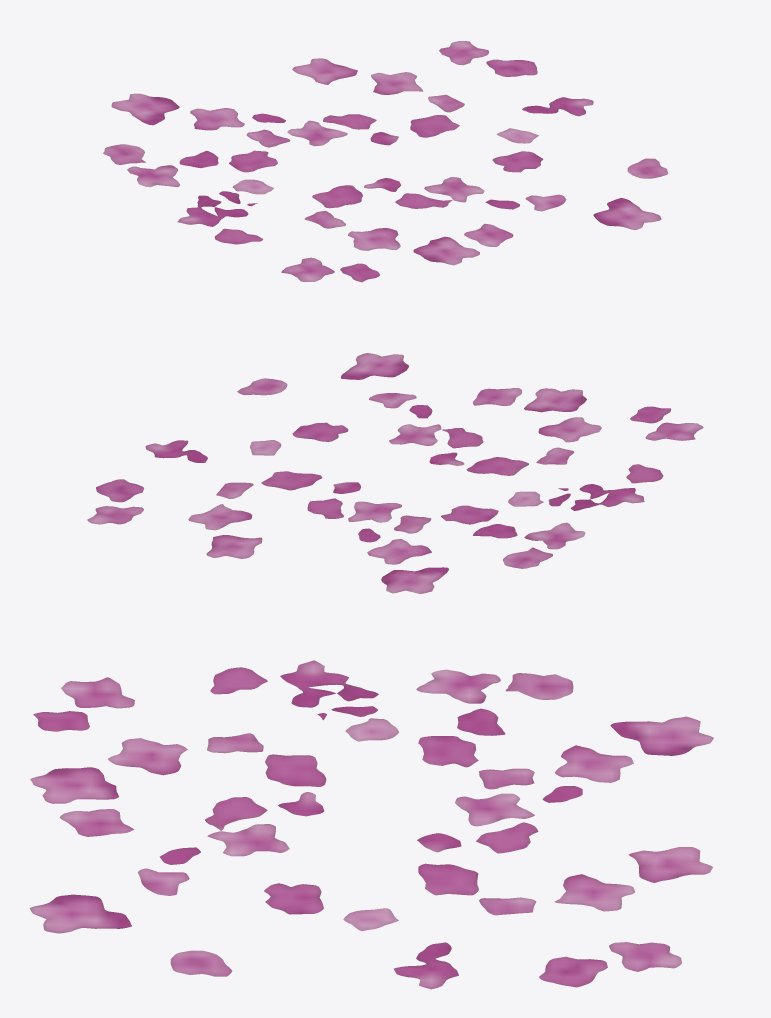
The model's file is Grass_I_4.fbx.
The picture shows the model from 3 angles, top to bottom: view 1: azimuth 30°, elevation 25°; view 2: azimuth 150°, elevation 25°; view 3: azimuth 270°, elevation 25°; orthographic projection. The views are drawn at different scales.
Visible parts, largest first — view 1: Grass_I_4__7_; view 2: Grass_I_4__7_; view 3: Grass_I_4__7_.
Boxes of the visible parts, x1,y1,x2,y2 form: Grass_I_4__7_: (103, 41, 667, 282); Grass_I_4__7_: (87, 353, 703, 593); Grass_I_4__7_: (30, 660, 713, 989).
Size of the model in its own units: 0.2584 by 0.0143 by 0.2588.
